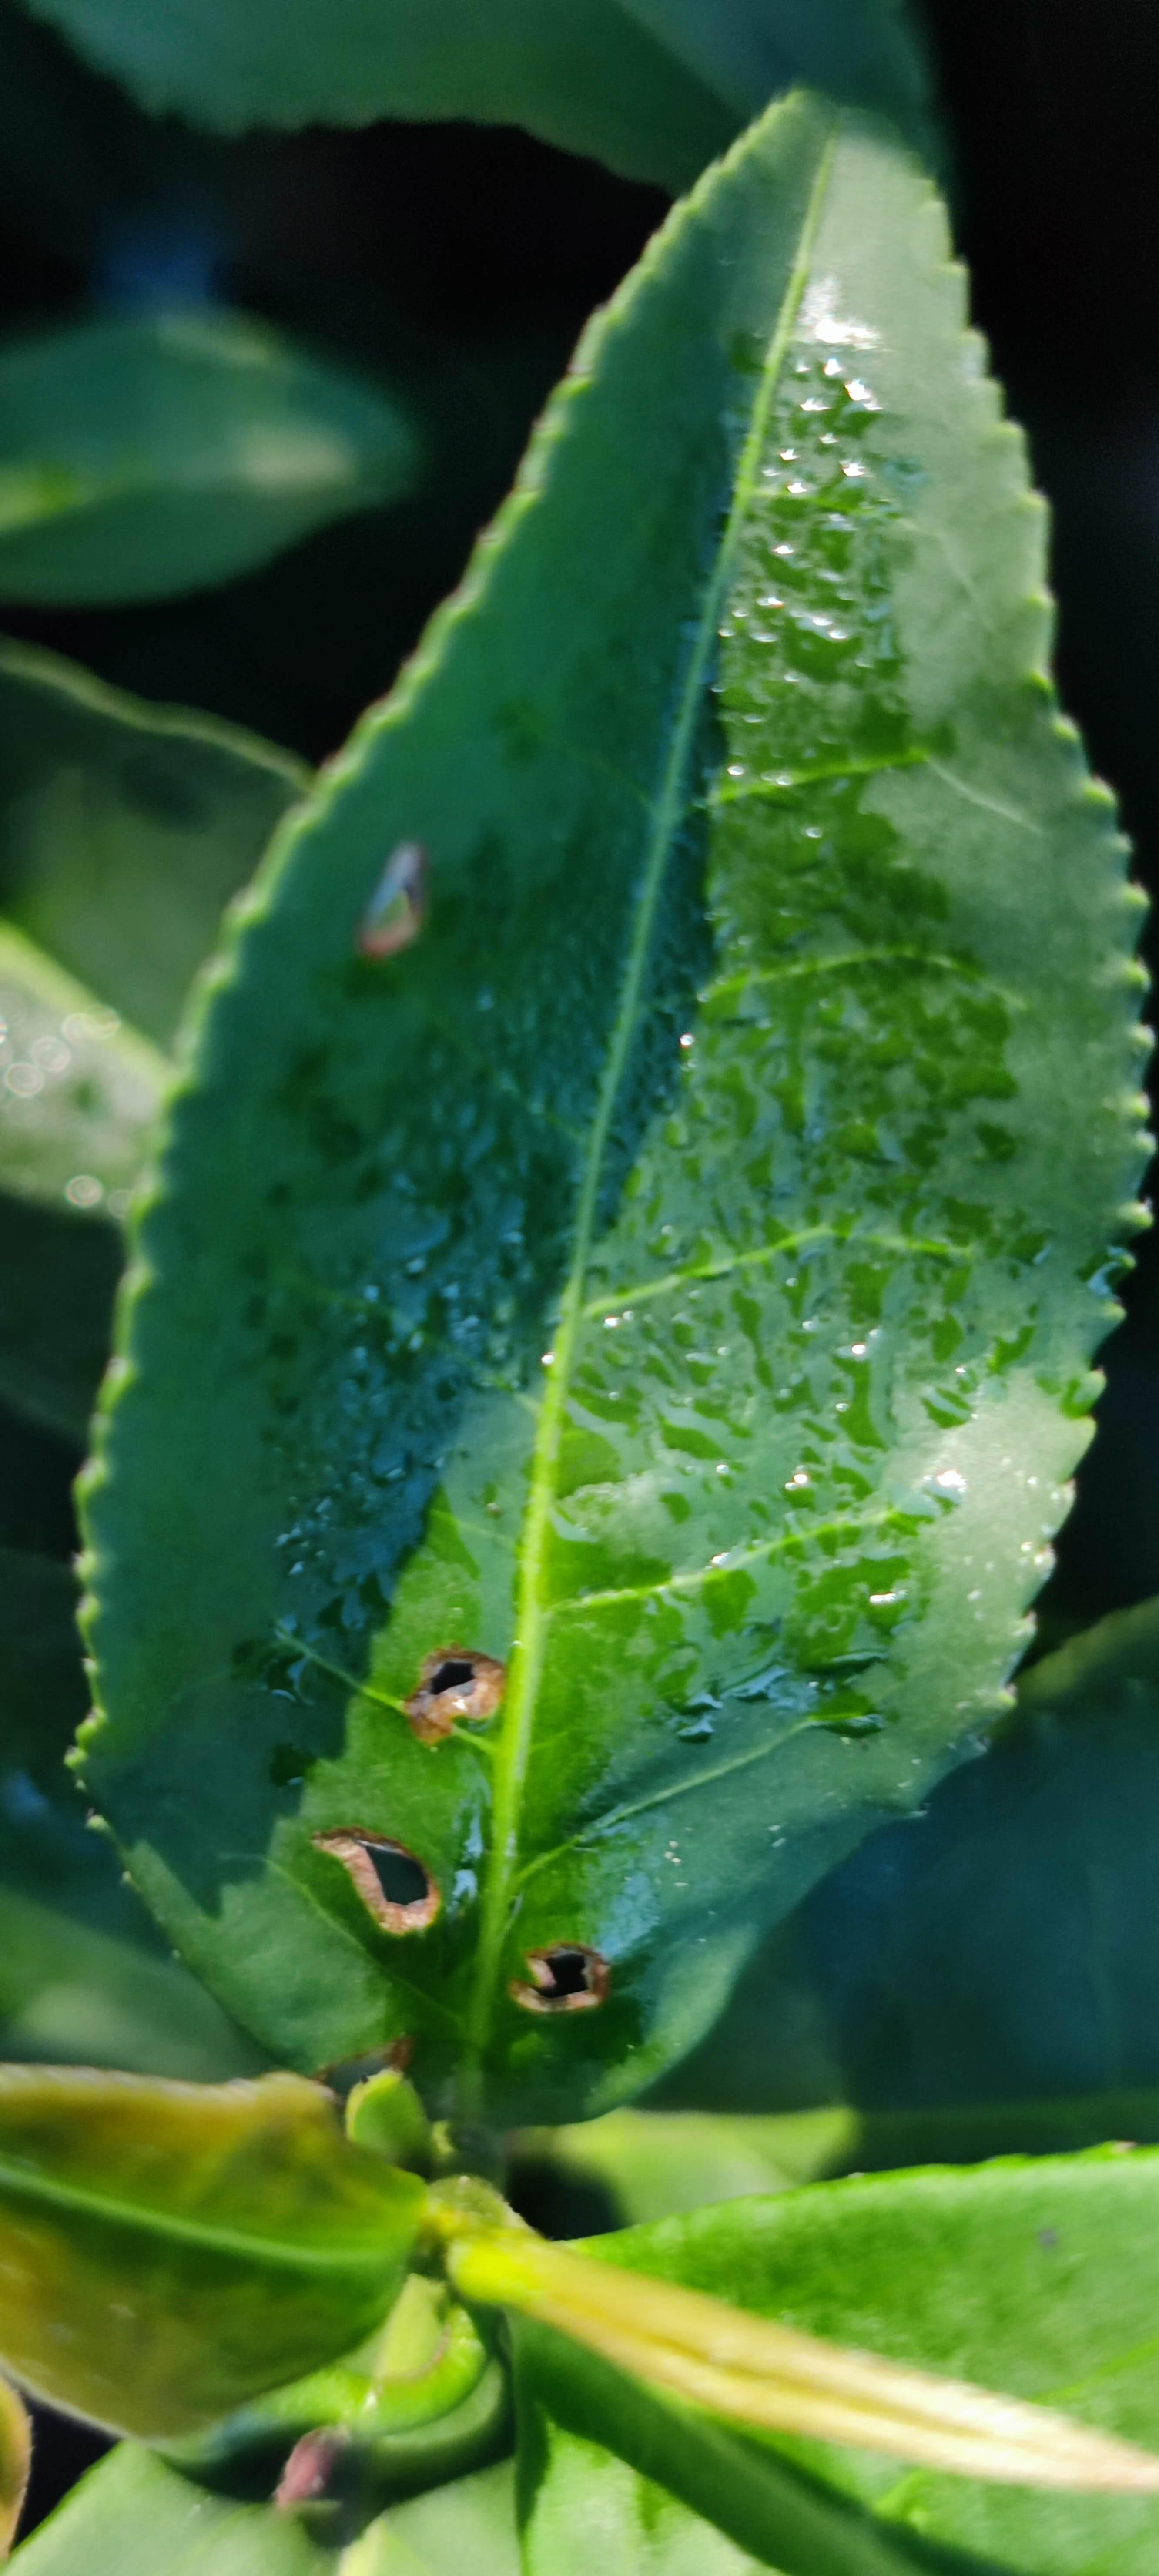chihuo_high: (69, 85, 1154, 2127)
